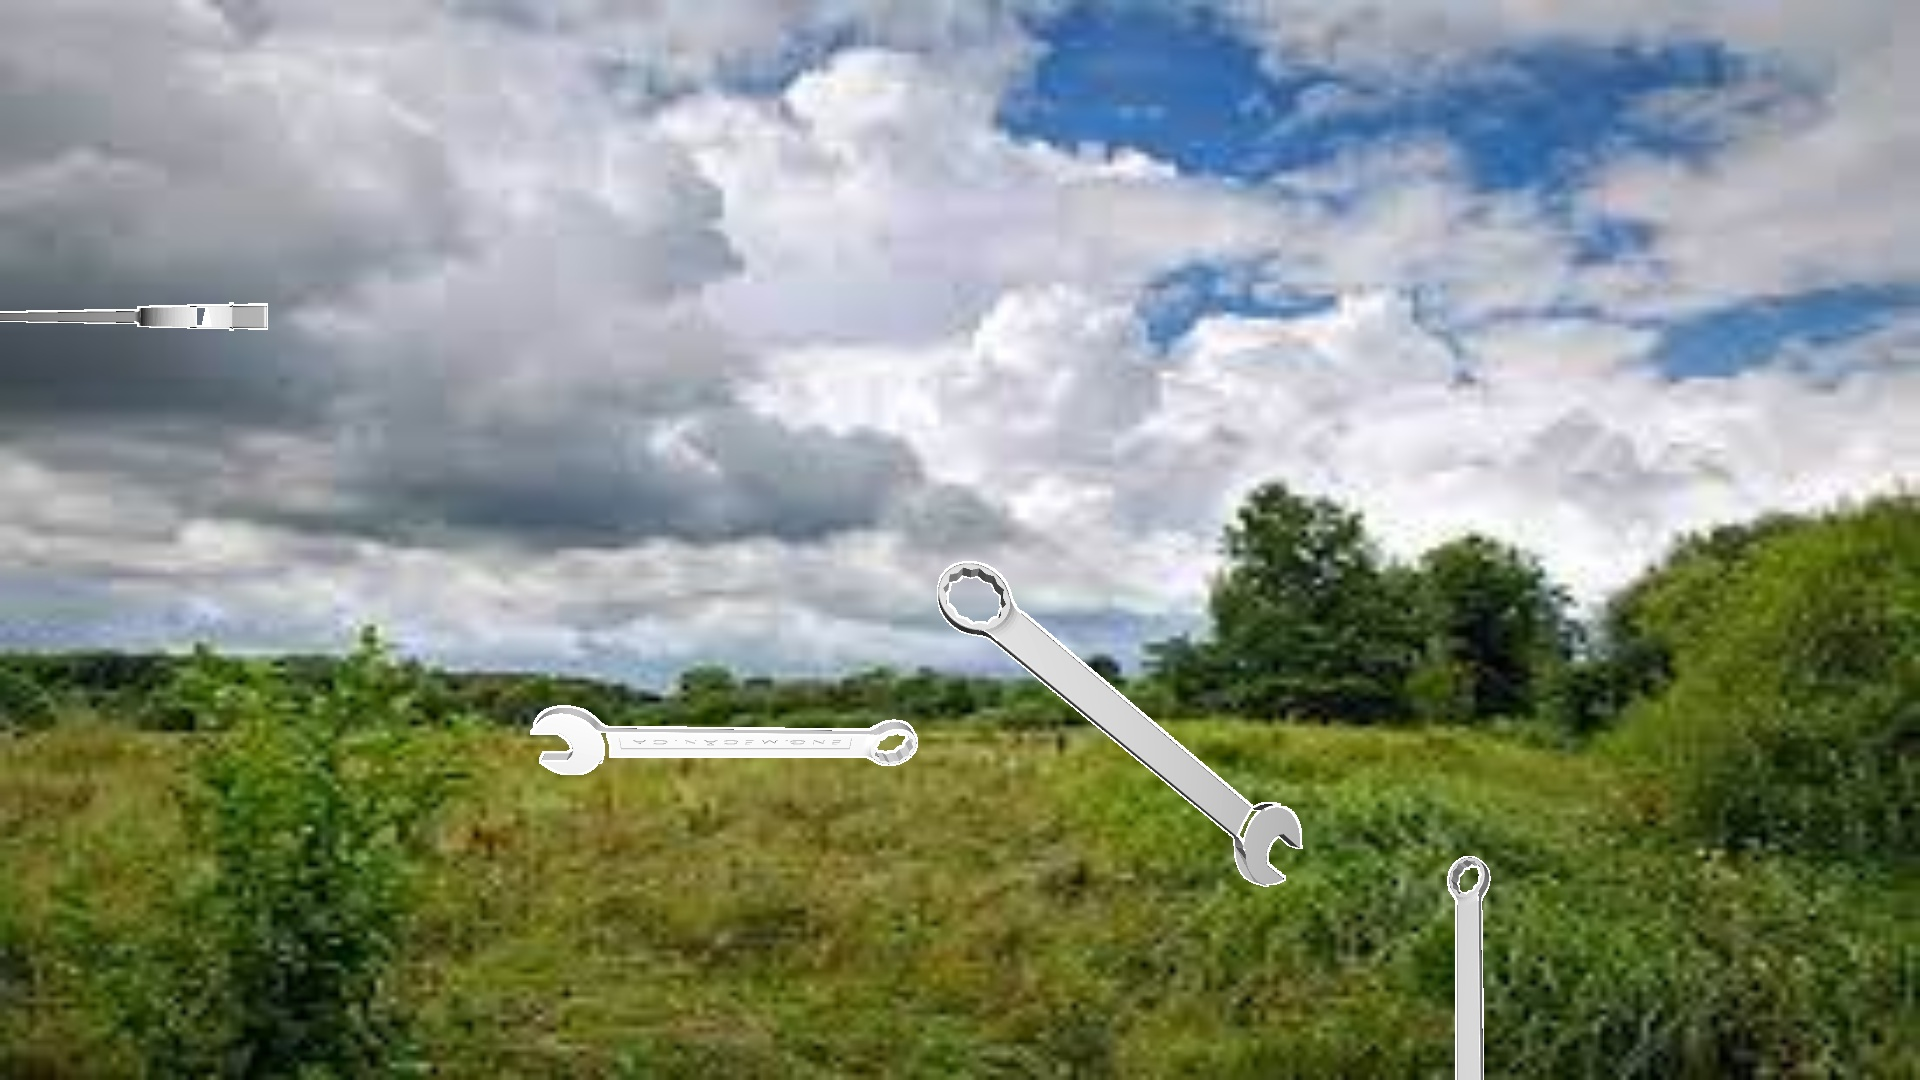Mixed Key: (938, 560, 1302, 886), (530, 705, 916, 774), (1447, 856, 1490, 1079), (0, 302, 266, 330)
